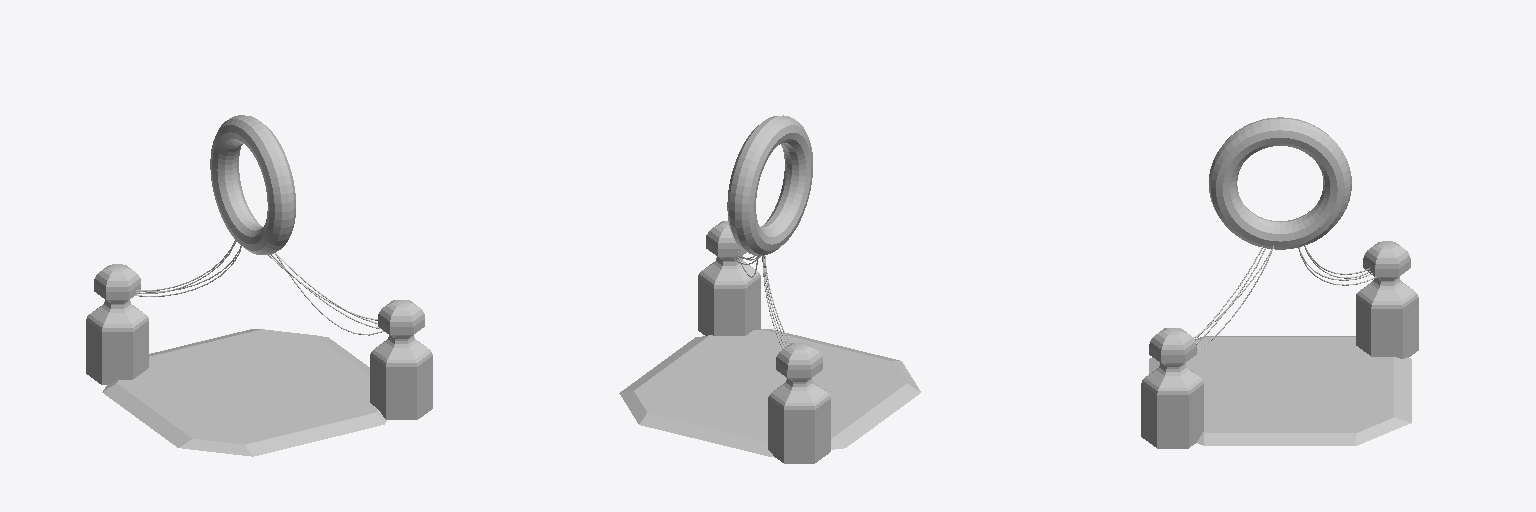
File: station.obj
3 views of the same model, side by side, from view 1: azimuth 30°, elevation 25°; view 2: azimuth 150°, elevation 25°; view 3: azimuth 270°, elevation 25° (orthographic).
Parts seen in each view (by area): view 1: BezierCurve.007; view 2: BezierCurve.007; view 3: BezierCurve.007.
Boxes of the visible parts, x1=… form: BezierCurve.007: x1=86, y1=115, x2=432, y2=456; BezierCurve.007: x1=619, y1=115, x2=920, y2=463; BezierCurve.007: x1=1141, y1=117, x2=1418, y2=448.
Size of the model in its own units: 8.48 by 9.54 by 8.79.